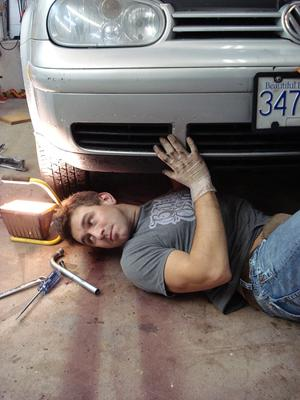person: (54, 130, 300, 327)
